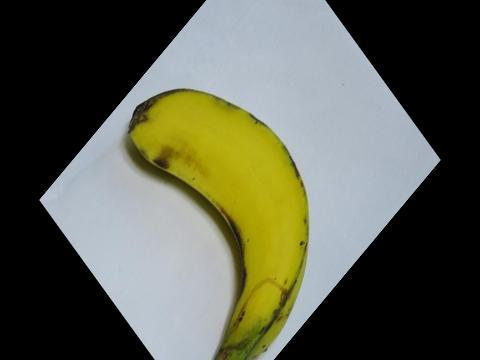freshripe: (119, 76, 320, 359)
